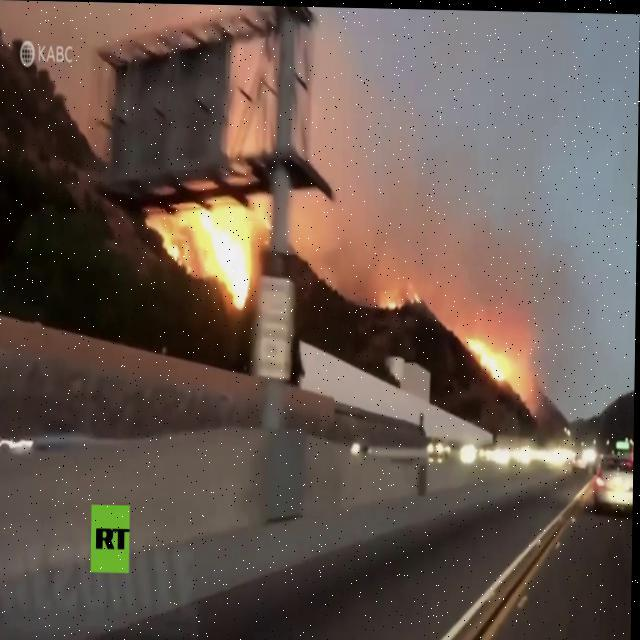Fire: (157, 206, 255, 306), (466, 327, 518, 383), (376, 286, 399, 308), (410, 292, 420, 306)
